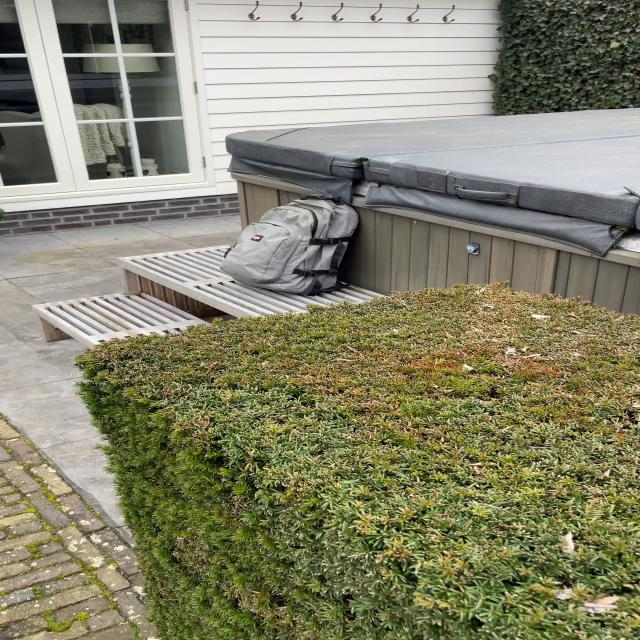backpack: (215, 190, 368, 297)
